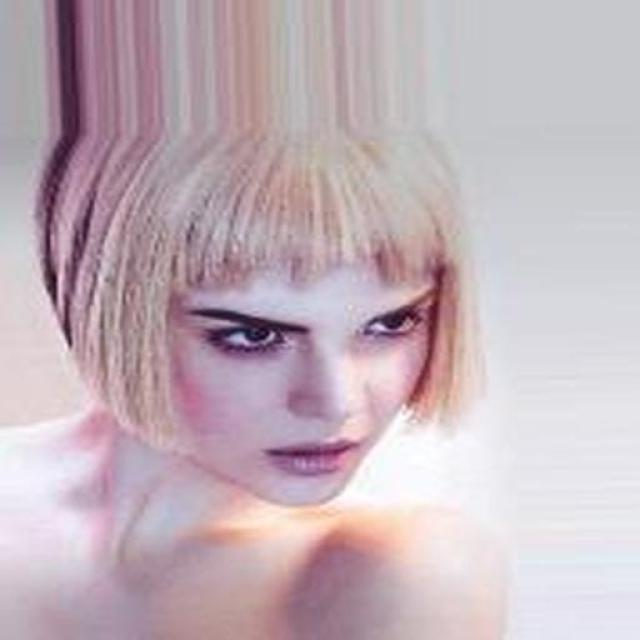bareface: (84, 148, 484, 507)
